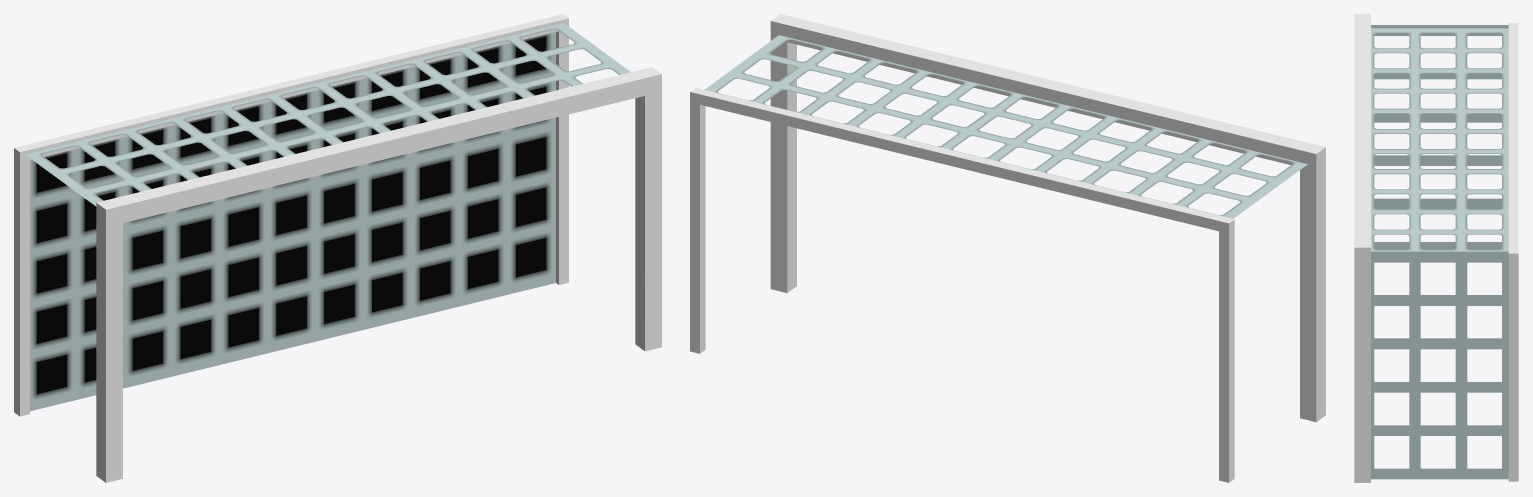
Rendered from goal.glb.
3 views of the same model, side by side, from view 1: azimuth 30°, elevation 25°; view 2: azimuth 150°, elevation 25°; view 3: azimuth 270°, elevation 25° (orthographic). The views are drawn at different scales.
Parts seen in each view (by area): view 1: Goal; view 2: Goal; view 3: Goal.
Boxes of the visible parts, x1=… form: Goal: x1=14, y1=14, x2=661, y2=482; Goal: x1=690, y1=14, x2=1325, y2=482; Goal: x1=1354, y1=14, x2=1518, y2=482.
Size of the model in its own units: 3.3 by 1.55 by 0.98.
4 materials, 3 textured.
